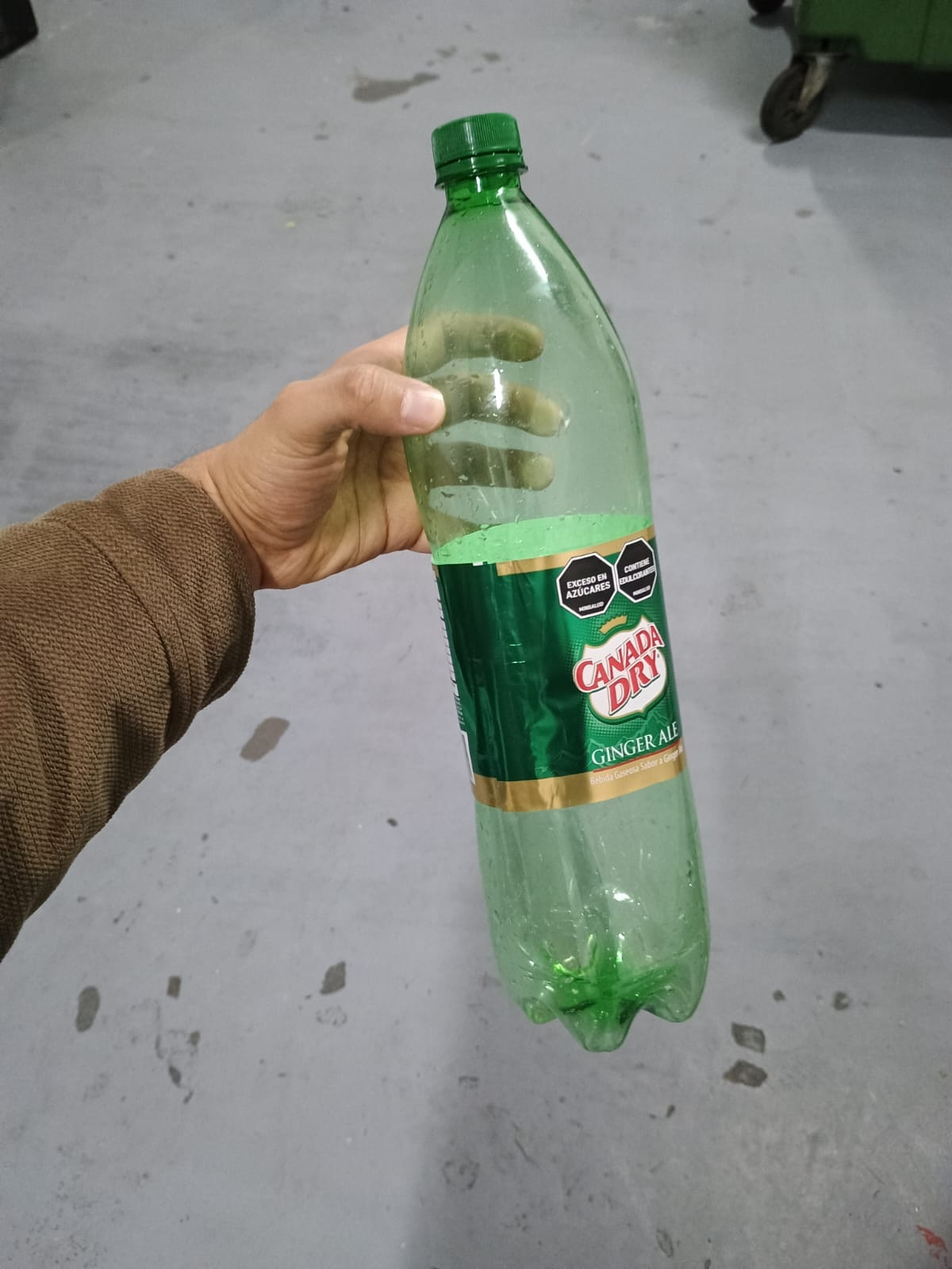Plastico: (405, 113, 710, 1051)
